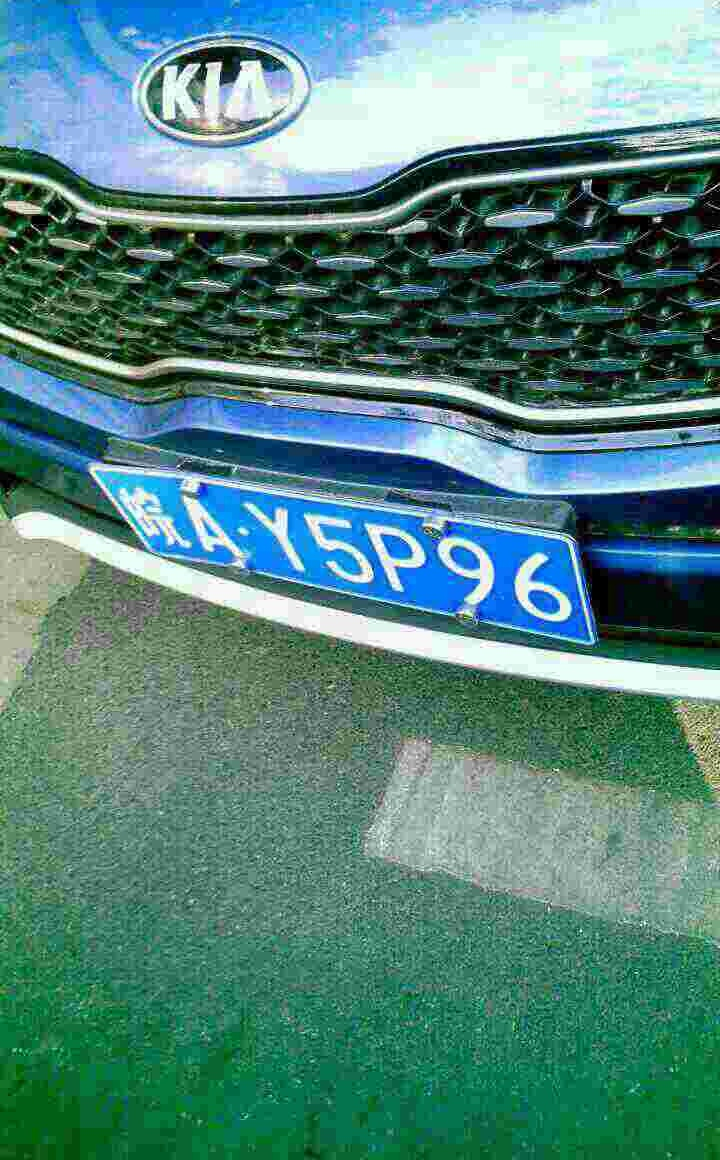car_blue: (86, 459, 600, 657)
